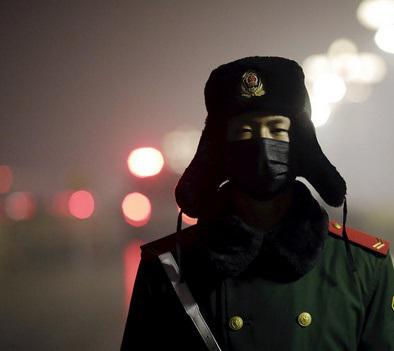OK: (226, 105, 291, 191)
